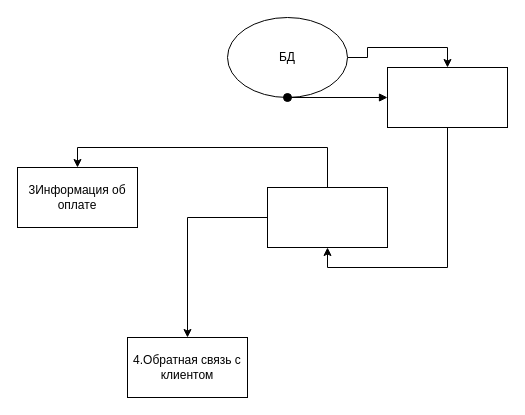
The diagram is 525 pixels wide and 415 high, and some of its shapes have lost their labels. The shapes that lost their labels are listed below. From the top down, each one's box as (x1, y1, x2, y2) in pixels, then its label:
(386, 66, 508, 128): 1.Информация
(266, 186, 388, 248): 2.Управление заказами
